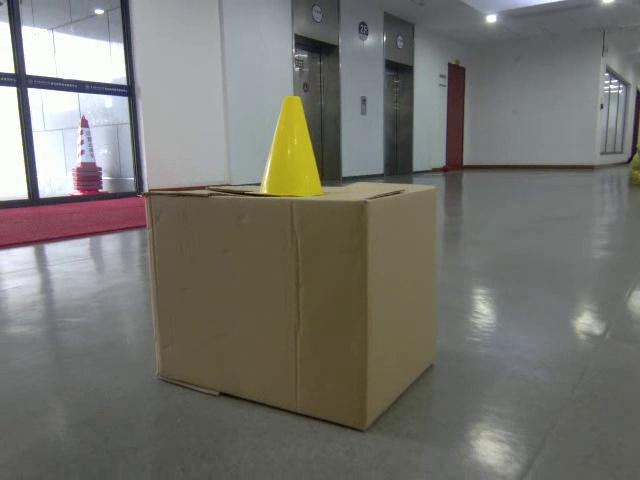yellow_barrel: (248, 93, 326, 198)
